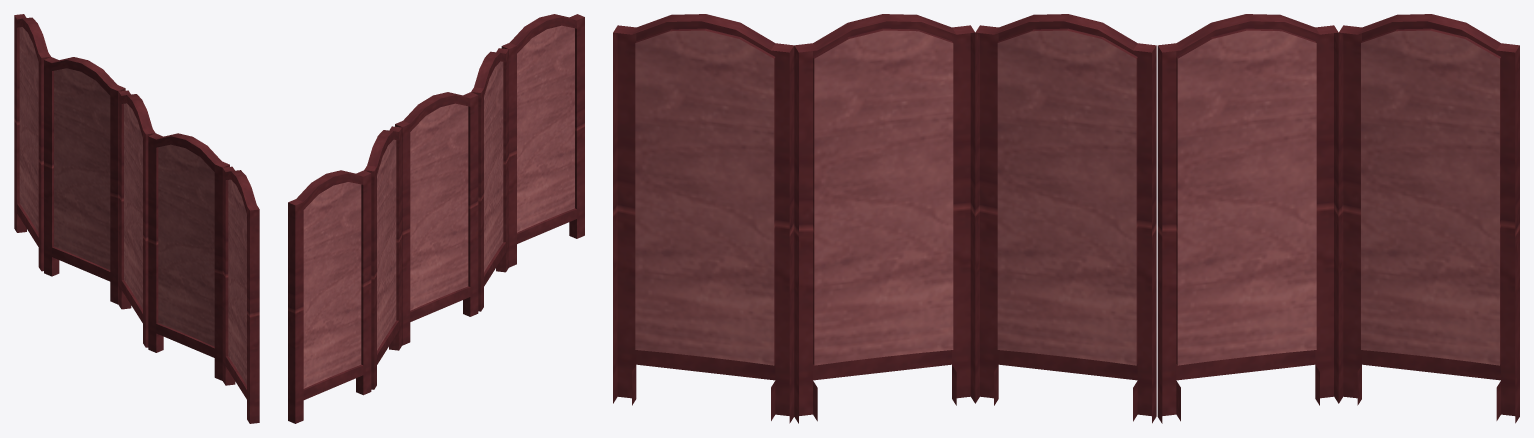
The model's file is geo_Obstacle_DressingScreen.FBX.
3 views of the same model, side by side, from view 1: azimuth 30°, elevation 25°; view 2: azimuth 150°, elevation 25°; view 3: azimuth 270°, elevation 25° (orthographic). The views are drawn at different scales.
Visible parts, largest first — view 1: geo_HotelRoom; view 2: geo_HotelRoom; view 3: geo_HotelRoom.
Part boxes in pixels (<box>): geo_HotelRoom: <box>14,14,259,423</box>; geo_HotelRoom: <box>288,14,584,423</box>; geo_HotelRoom: <box>613,14,1519,423</box>.
Bounding box in the file's own units: 233 × 1567 × 3280.
